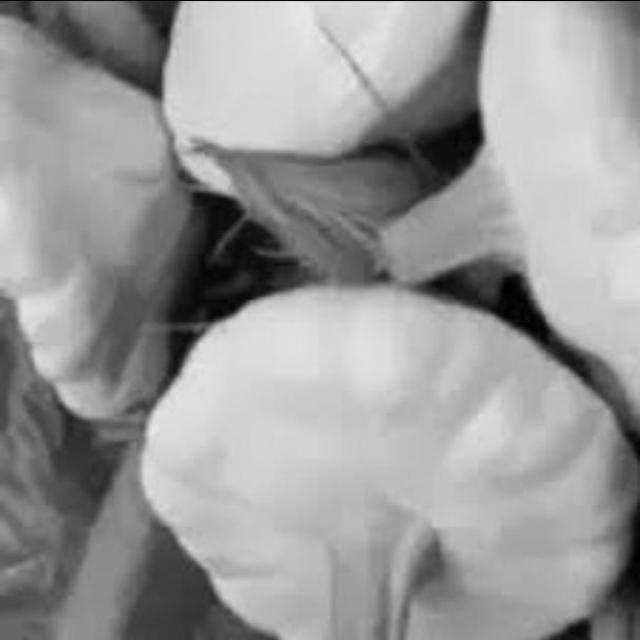bi dao: (129, 266, 639, 639), (0, 12, 202, 423), (143, 1, 480, 222), (463, 1, 640, 420)
